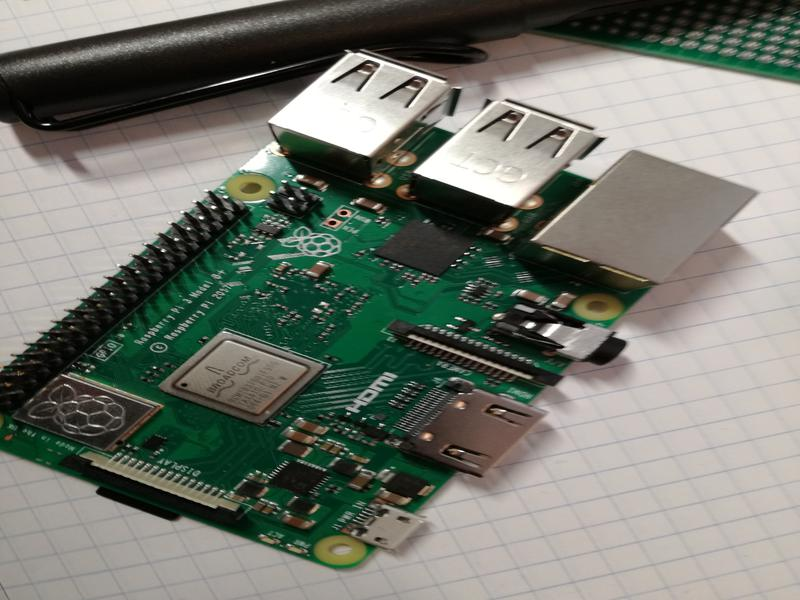Raspberry_Pi_3: (1, 45, 773, 579)
